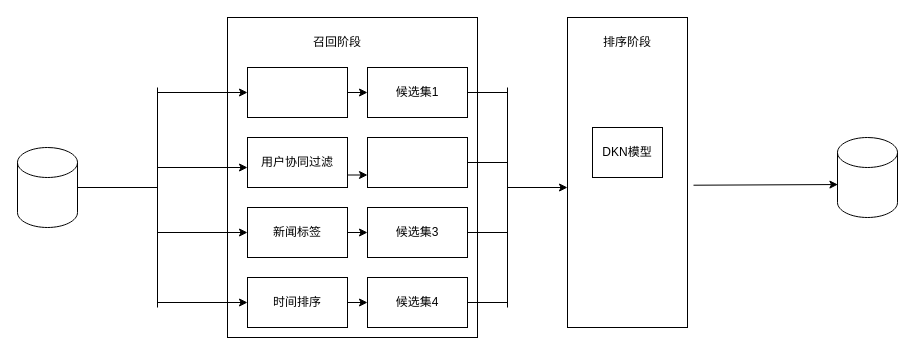
Image size: 915x355. Some labels were removed from this diagram. The centre of each missing label's shape, as x and y in pixels:
候选集2: the point at 417,162
数据集: the point at 47,187
热点召回: the point at 297,92
结果集: the point at 867,177
